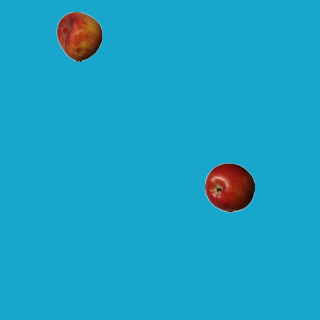Apple Braeburn: (204, 162, 254, 212)
Peach: (54, 11, 104, 61)
